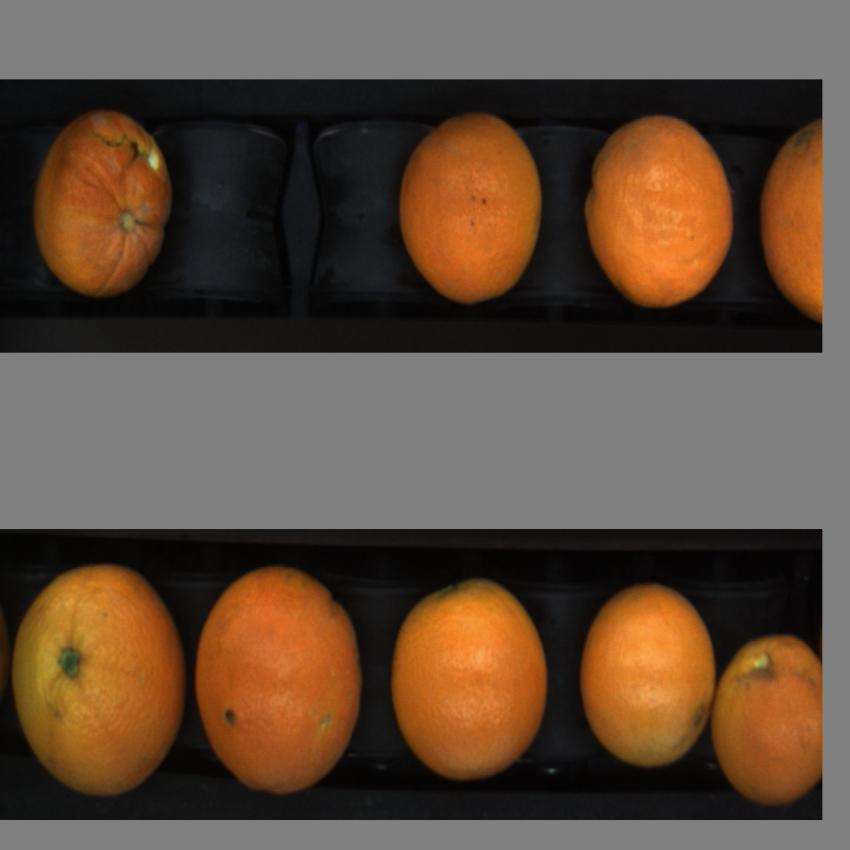Buen estado: (11, 558, 190, 800), (192, 553, 366, 792), (387, 573, 553, 779), (391, 109, 546, 322), (581, 113, 735, 320), (579, 578, 717, 775), (715, 615, 821, 800), (755, 113, 821, 322)
Mal estado: (29, 104, 182, 302)
